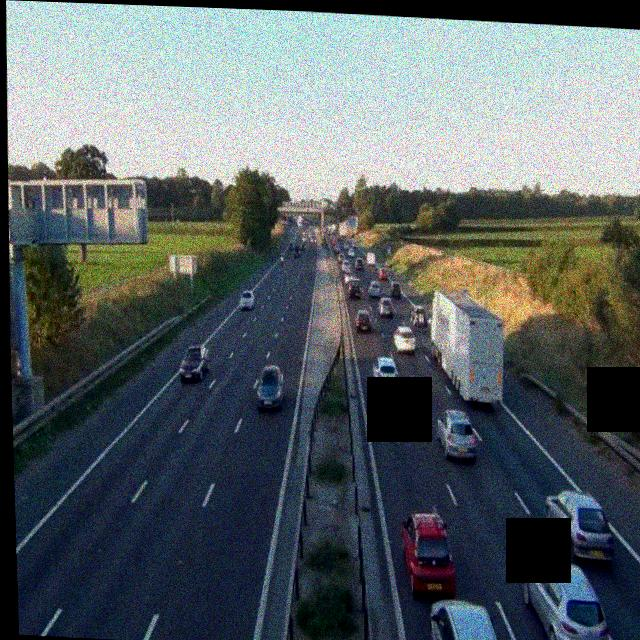car: (522, 559, 611, 640), (546, 489, 615, 563), (399, 510, 454, 597), (427, 598, 508, 640), (437, 409, 478, 461), (255, 365, 286, 411), (179, 342, 209, 381), (374, 357, 400, 393), (393, 324, 415, 353), (411, 303, 428, 327), (355, 308, 371, 332), (239, 288, 254, 309), (367, 280, 382, 298), (348, 280, 361, 298), (383, 281, 396, 298), (342, 265, 353, 279), (379, 268, 389, 283), (280, 247, 288, 257)
truck: (429, 290, 507, 406)
